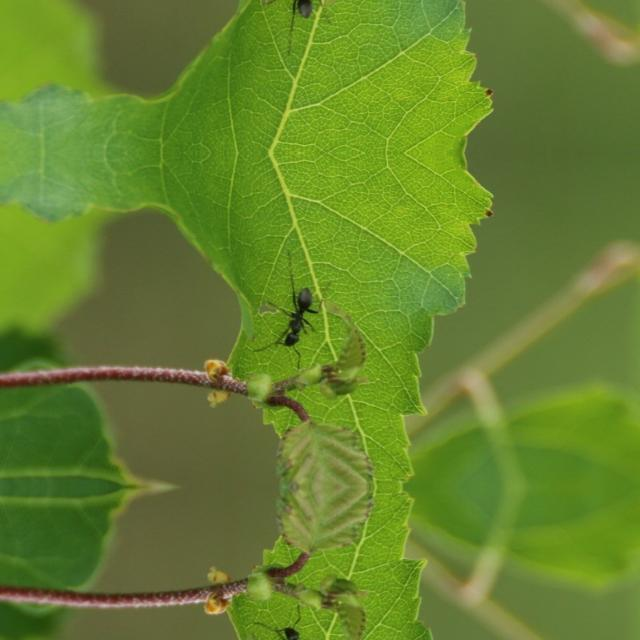Formica: (264, 271, 328, 363), (262, 608, 328, 640), (262, 0, 326, 32)
